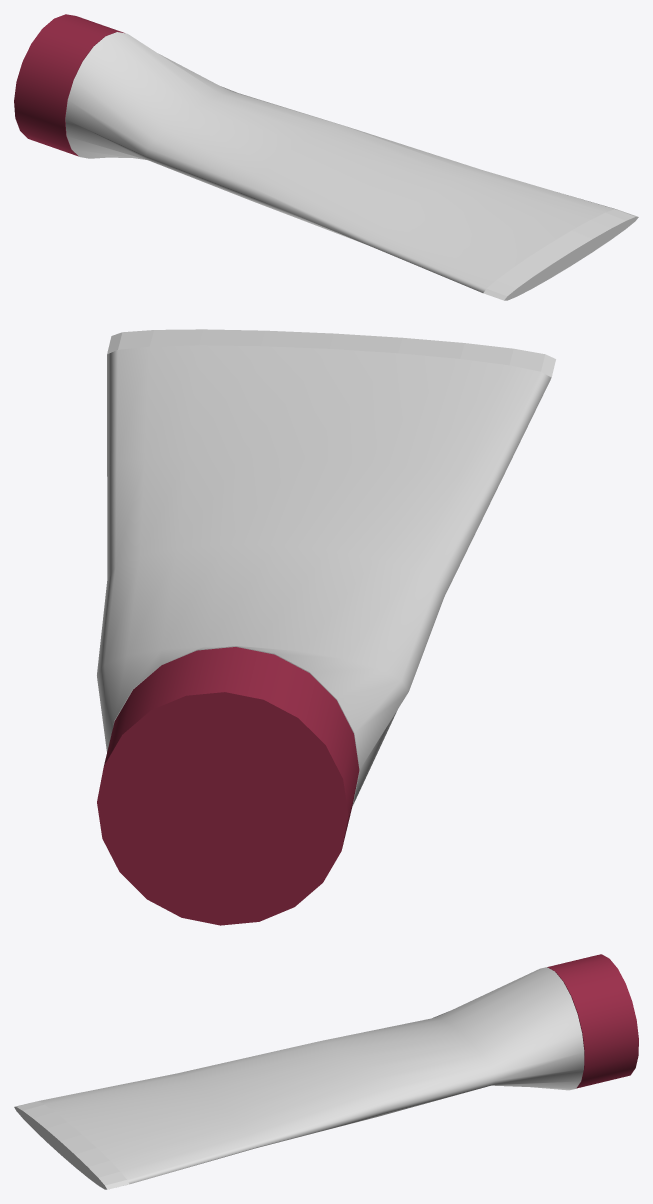
Rendered from ToothPaste.fbx.
3 renders of one model, top to bottom at view 1: azimuth 30°, elevation 25°; view 2: azimuth 150°, elevation 25°; view 3: azimuth 270°, elevation 25°, orthographic. The views are drawn at different scales.
Parts seen in each view (by area): view 1: pCylinder6, pCylinder7; view 2: pCylinder6, pCylinder7; view 3: pCylinder6, pCylinder7.
Boxes of the visible parts, x1,y1,x2,y2 form: pCylinder6: (65,32,638,300); pCylinder7: (14,14,124,156); pCylinder6: (97,329,555,806); pCylinder7: (97,647,359,925); pCylinder6: (14,967,584,1189); pCylinder7: (547,954,638,1088).
Size of the model in its own units: 20.07 by 6.27 by 30.35.
